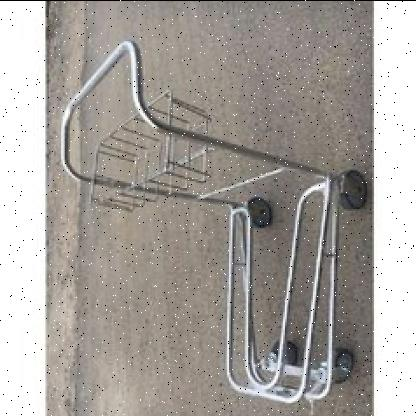airport-trolley: (56, 34, 363, 414)
